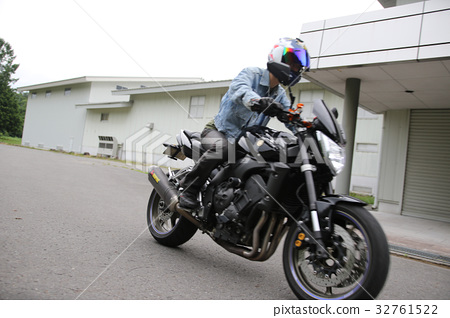helmet: (265, 32, 316, 88)
